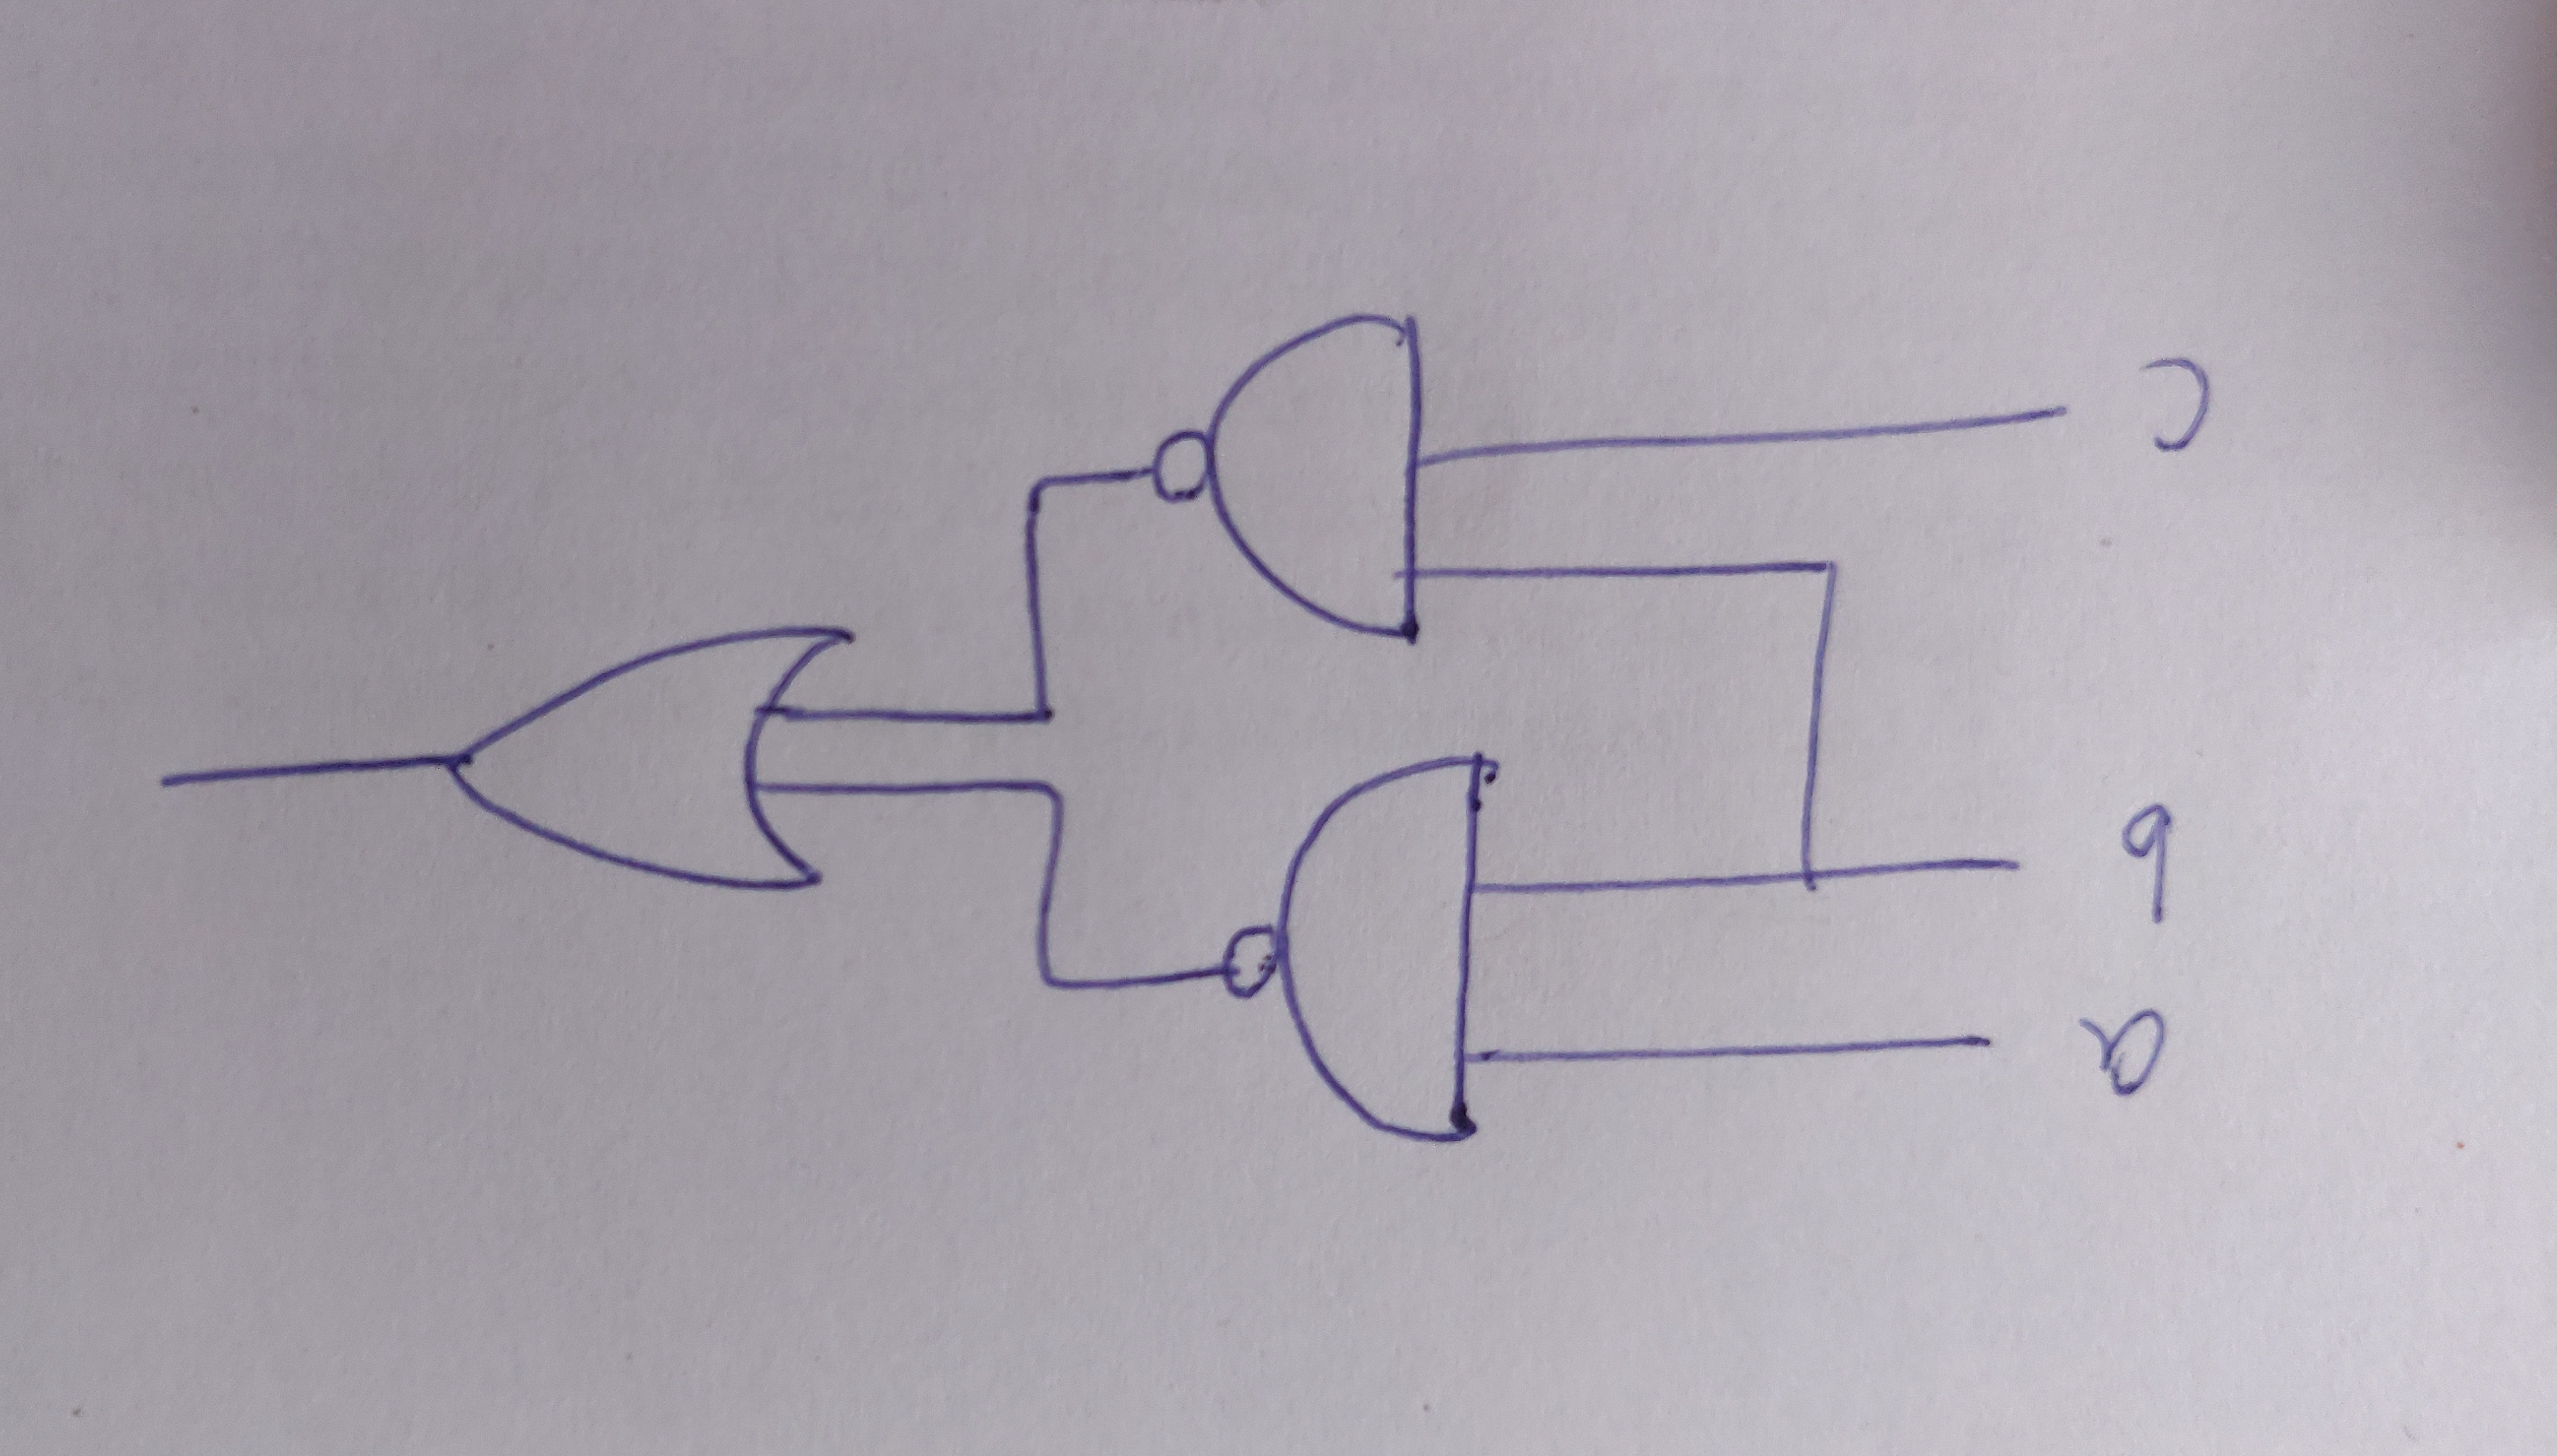nand: (1175, 727, 1596, 1178), (1120, 253, 1533, 685)
or: (411, 509, 903, 969)
